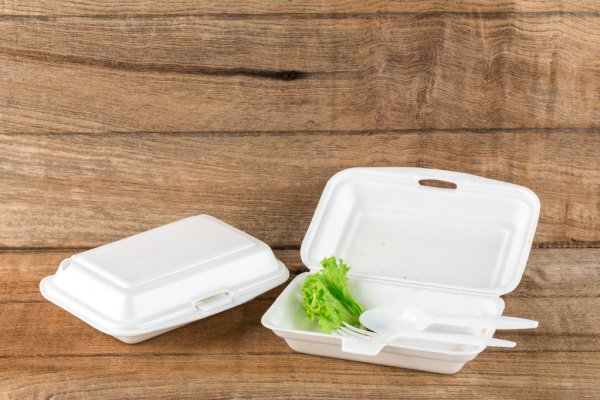Foam Box: (257, 161, 545, 377), (34, 210, 291, 346)
